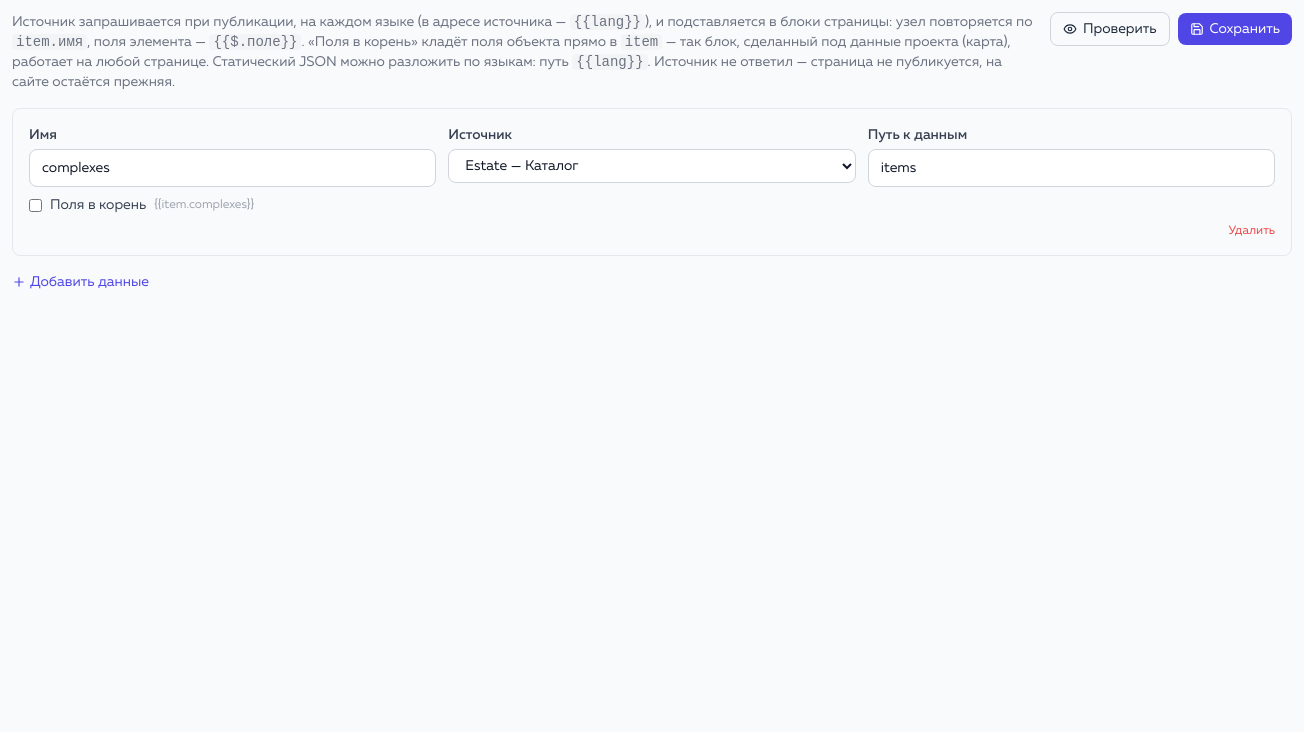
it: PagePublishData › проверка: число элементов и первый элемент; ошибка источника — у своих данных
Click the button "Проверить".
click(1110, 29)  # box [1050,12,1170,46]
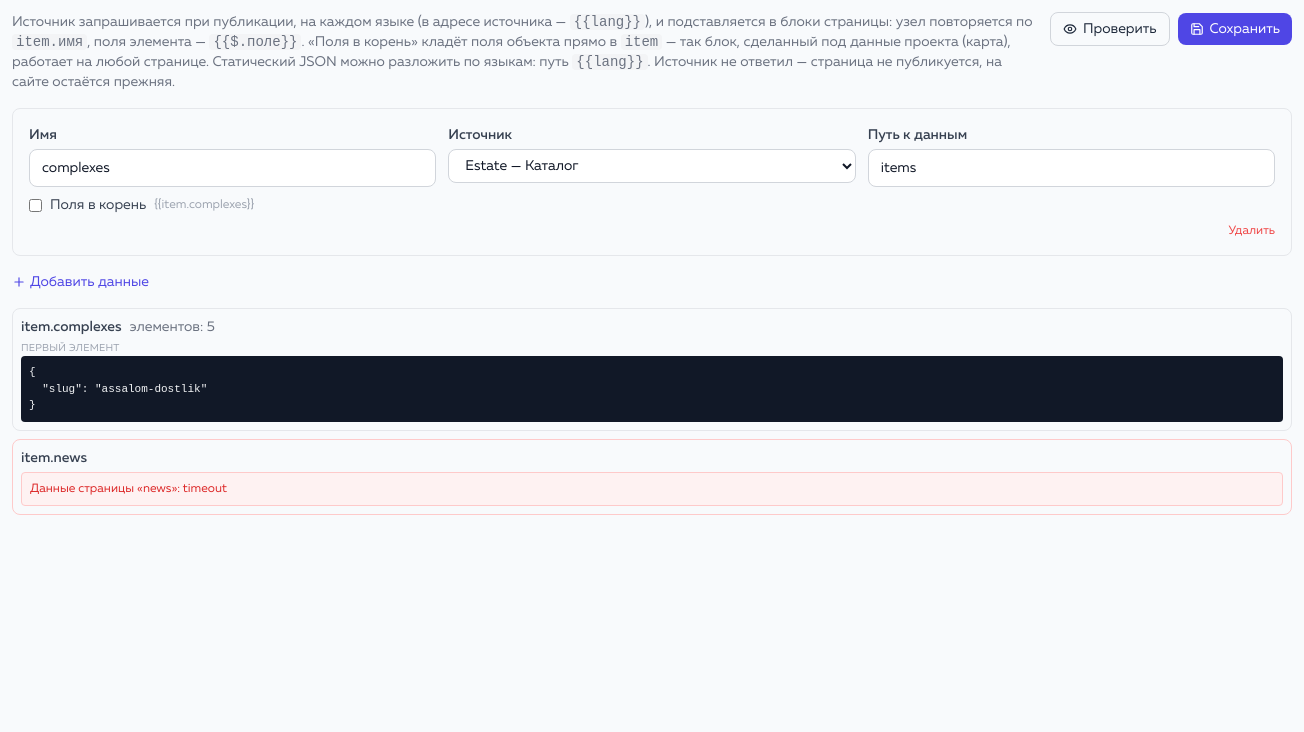
Result: the text "элементов: 5" is shown at [130,320,215,334]
Result: the text "{ \"slug\": \"assalom-dostlik\" }" is shown at [21,356,1283,422]
Result: the text "Данные страницы «news»: timeout" is shown at [21,472,1283,506]
